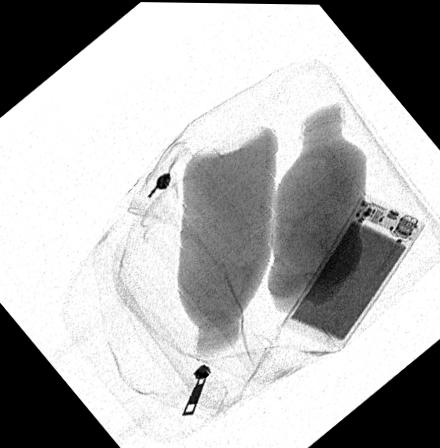Powerbank: (281, 190, 427, 349)
